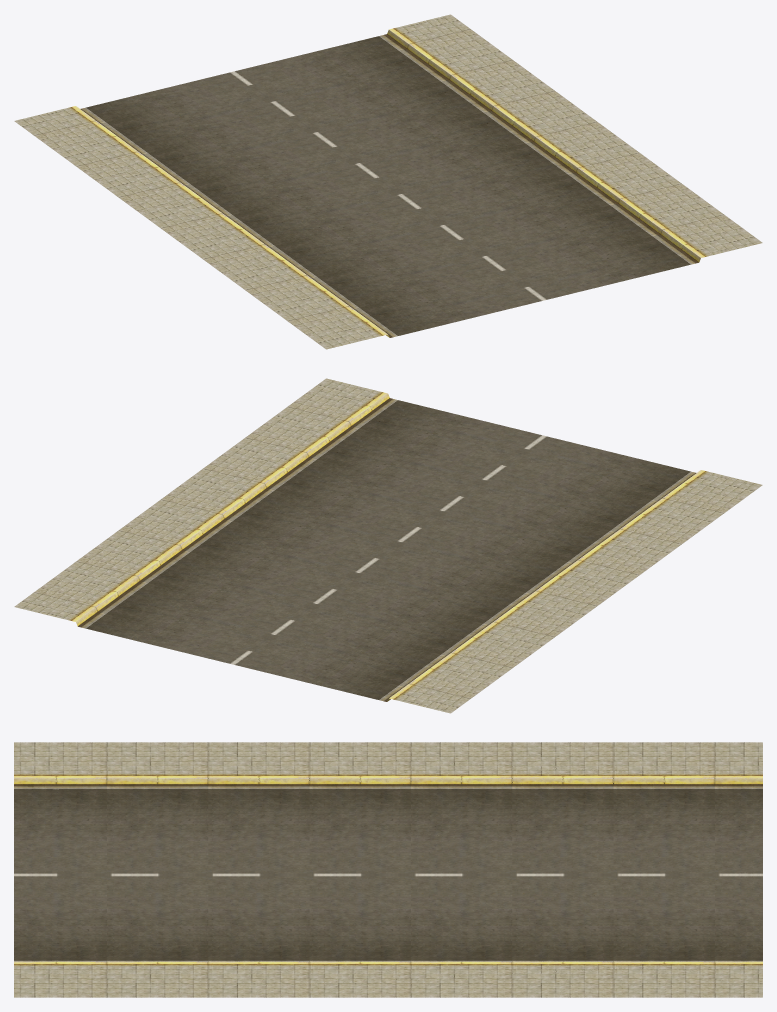
File: Road3_Straight_C.fbx
3 renders of one model, top to bottom at view 1: azimuth 30°, elevation 25°; view 2: azimuth 150°, elevation 25°; view 3: azimuth 270°, elevation 25°, orthographic. The views are drawn at different scales.
Parts seen in each view (by area): view 1: Road_Straight_C; view 2: Road_Straight_C; view 3: Road_Straight_C.
Boxes of the visible parts, x1,y1,x2,y2 form: Road_Straight_C: (14,14,762,349); Road_Straight_C: (14,378,762,713); Road_Straight_C: (14,742,762,997).
Size of the model in its own units: 2255 by 20.38 by 2793.
